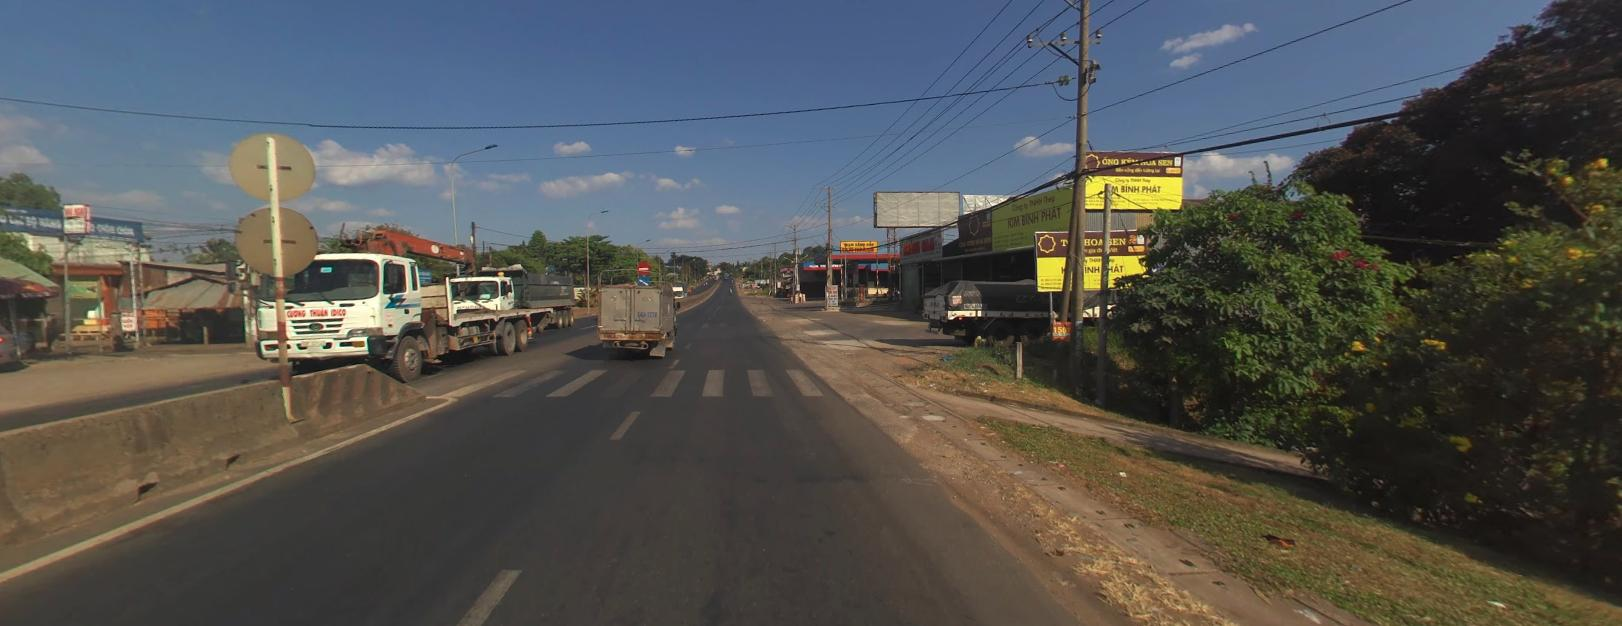Cam nguoc chieu: (636, 260, 650, 273), (637, 260, 650, 273)
Hieu lenh: (637, 274, 651, 287), (637, 274, 651, 286)
